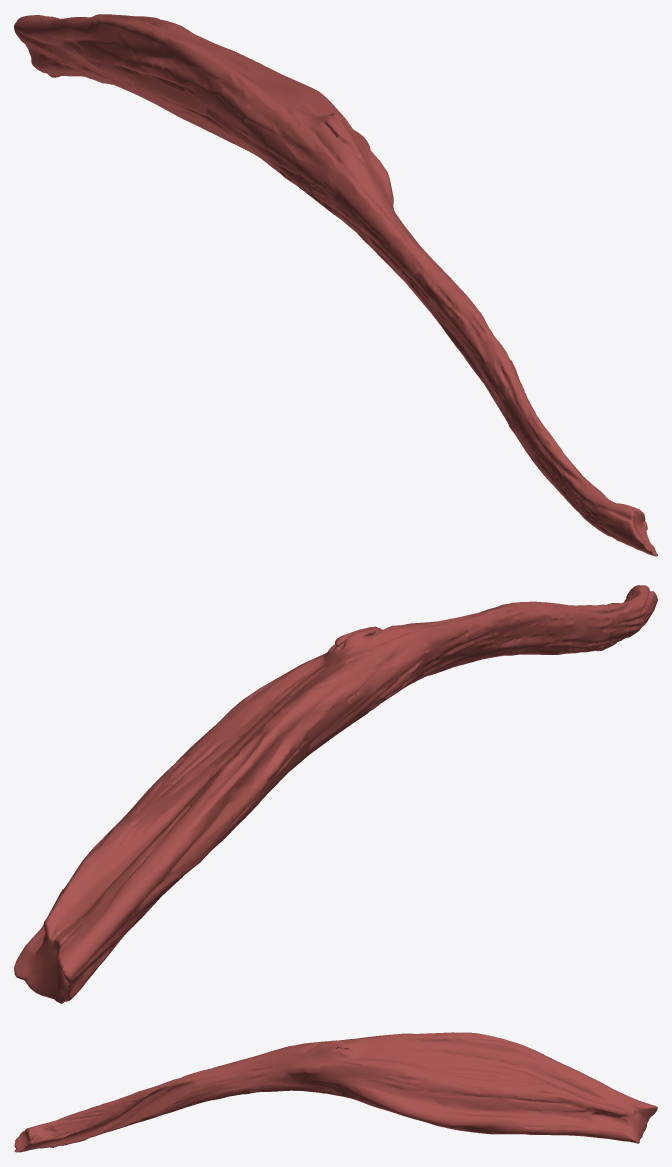
The model's file is FMA37460.glb.
3 renders of one model, top to bottom at view 1: azimuth 30°, elevation 25°; view 2: azimuth 150°, elevation 25°; view 3: azimuth 270°, elevation 25°, orthographic. The views are drawn at different scales.
Parts seen in each view (by area): view 1: FMA37460; view 2: FMA37460; view 3: FMA37460.
Boxes of the visible parts, left/top/right/bottom form: FMA37460: left=14, top=14, right=657, bottom=556; FMA37460: left=14, top=585, right=657, bottom=1003; FMA37460: left=14, top=1032, right=657, bottom=1152.
Bounding box in the file's own units: 0.0197 × 0.026 × 0.1403.
